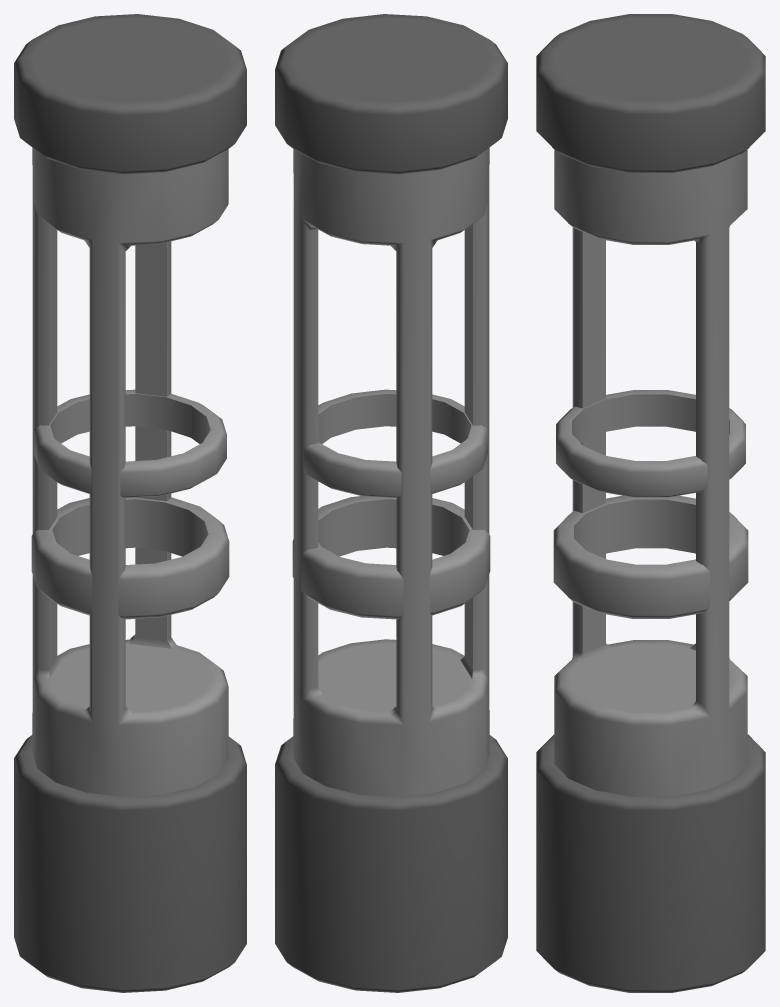
The model's file is pillar_003.fbx.
3 renders of one model, left to right at view 1: azimuth 30°, elevation 25°; view 2: azimuth 150°, elevation 25°; view 3: azimuth 270°, elevation 25°, orthographic.
Visible parts, largest first — view 1: pillar_003; view 2: pillar_003; view 3: pillar_003.
Boxes of the visible parts, <box> form: pillar_003: <box>14,14,246,992</box>; pillar_003: <box>275,14,507,992</box>; pillar_003: <box>536,14,765,992</box>.
Bounding box in the file's own units: 341 × 341 × 1457.
